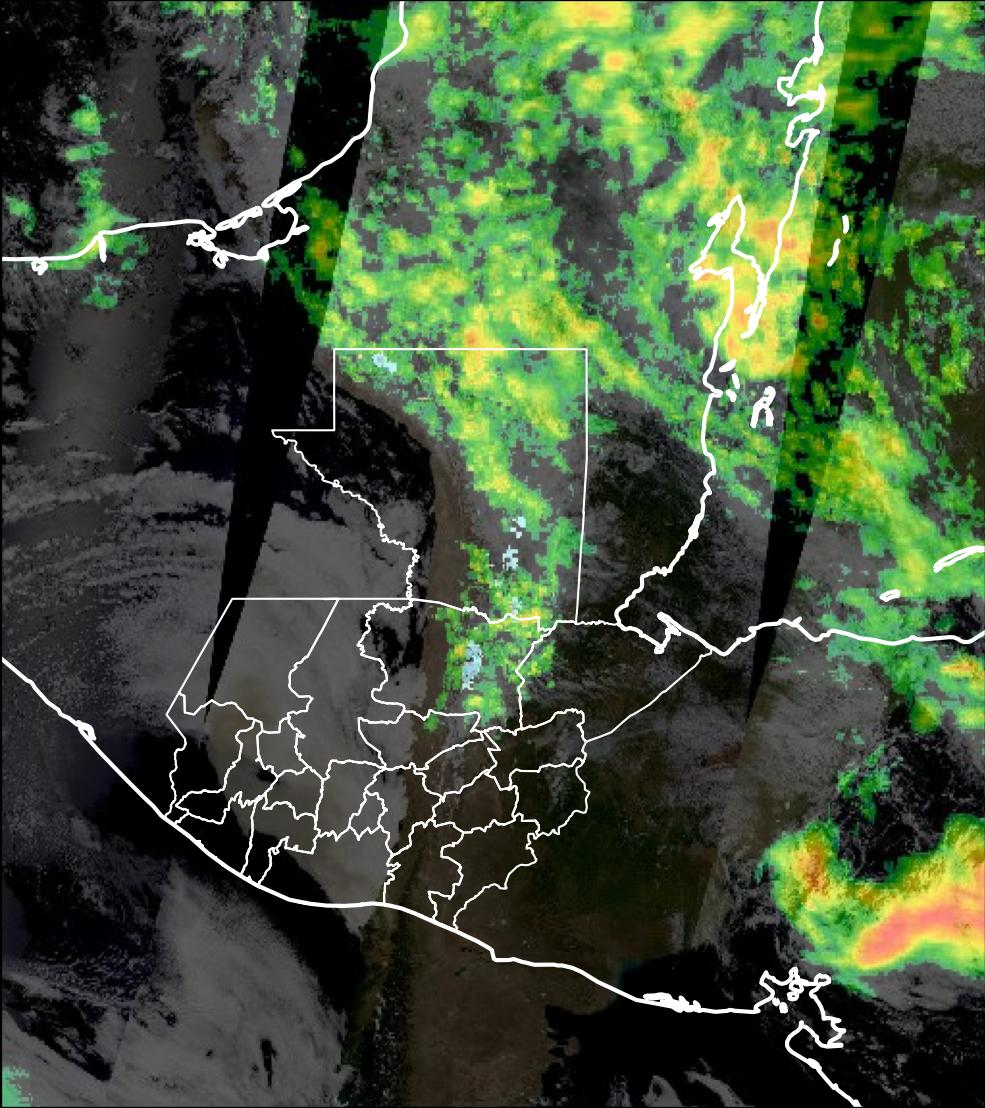precipitacion: (846, 819, 984, 986)
